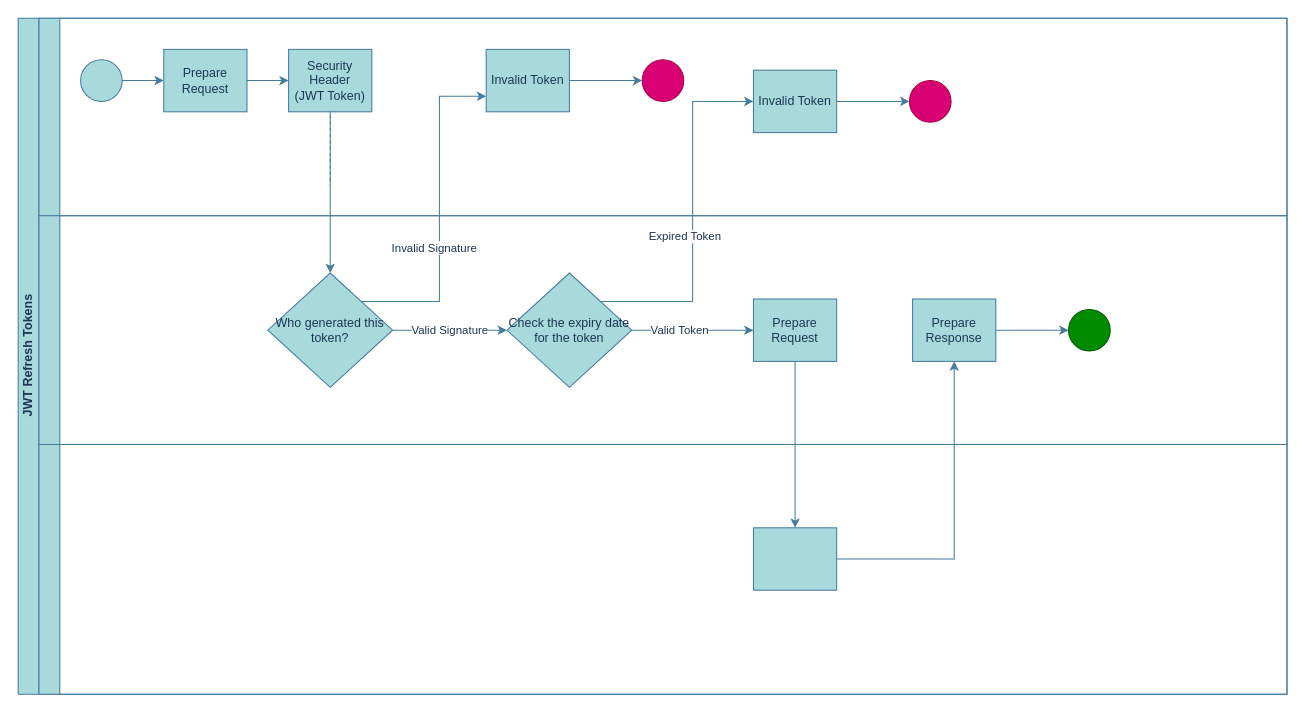
This 1305x712 diagram has some shape labels left out. The shapes that lost their labels are listed below. From the top down, each one's box as (x1, y1, x2, y2) in pixels, then its label:
(38, 17, 1287, 216): FrontEnd
(38, 215, 1287, 445): API
(38, 444, 1287, 694): Database
(752, 527, 837, 590): Fetch the data
